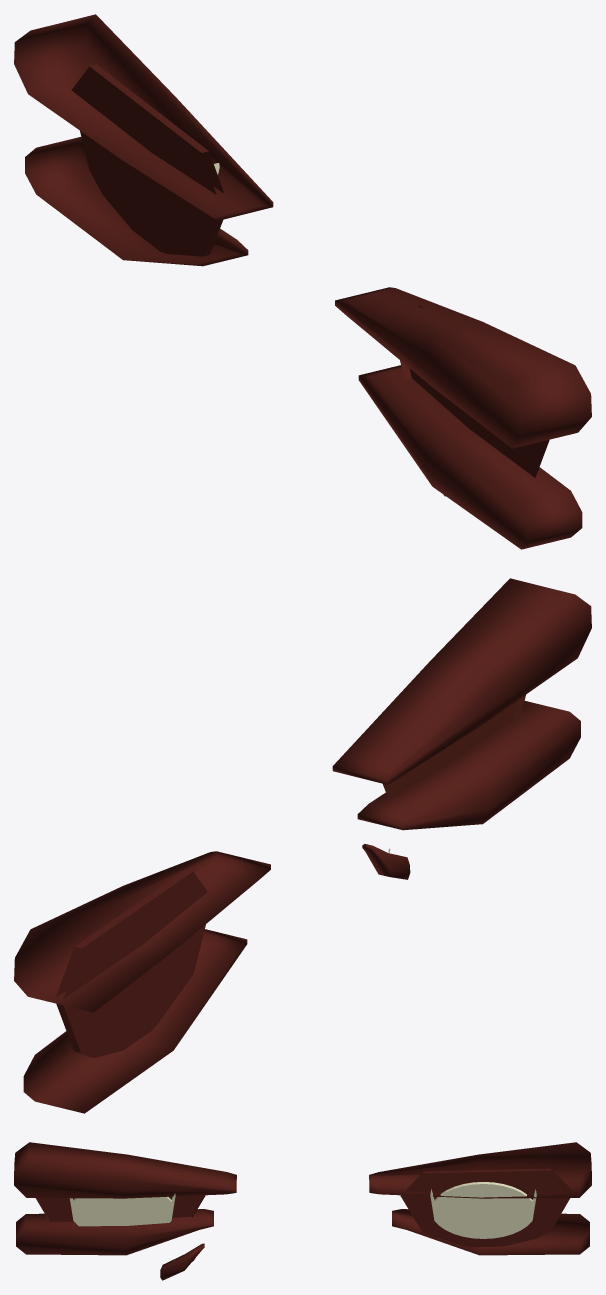
File: AgentEyes.glb
The picture shows the model from 3 angles, top to bottom: view 1: azimuth 30°, elevation 25°; view 2: azimuth 150°, elevation 25°; view 3: azimuth 270°, elevation 25°; orthographic projection. The views are drawn at different scales.
Parts seen in each view (by area): view 1: AgentCaseyEyes; view 2: AgentCaseyEyes; view 3: AgentCaseyEyes.
Boxes of the visible parts, left/top/right/bottom form: AgentCaseyEyes: left=14, top=14, right=591, bottom=549; AgentCaseyEyes: left=14, top=578, right=591, bottom=1113; AgentCaseyEyes: left=14, top=1142, right=591, bottom=1280.
Bounding box in the file's own units: 0.2541 × 0.7188 × 3.1.
